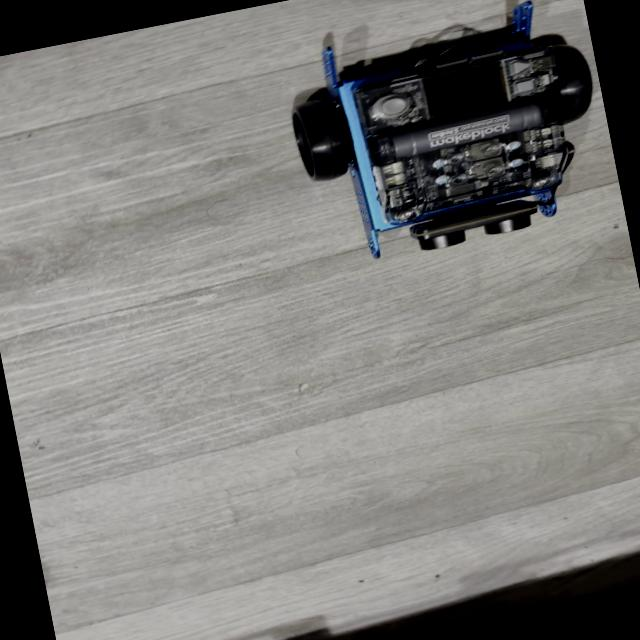mbot-detection: (264, 0, 627, 283)
